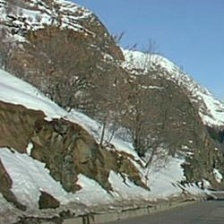neutral: (3, 6, 224, 223)
